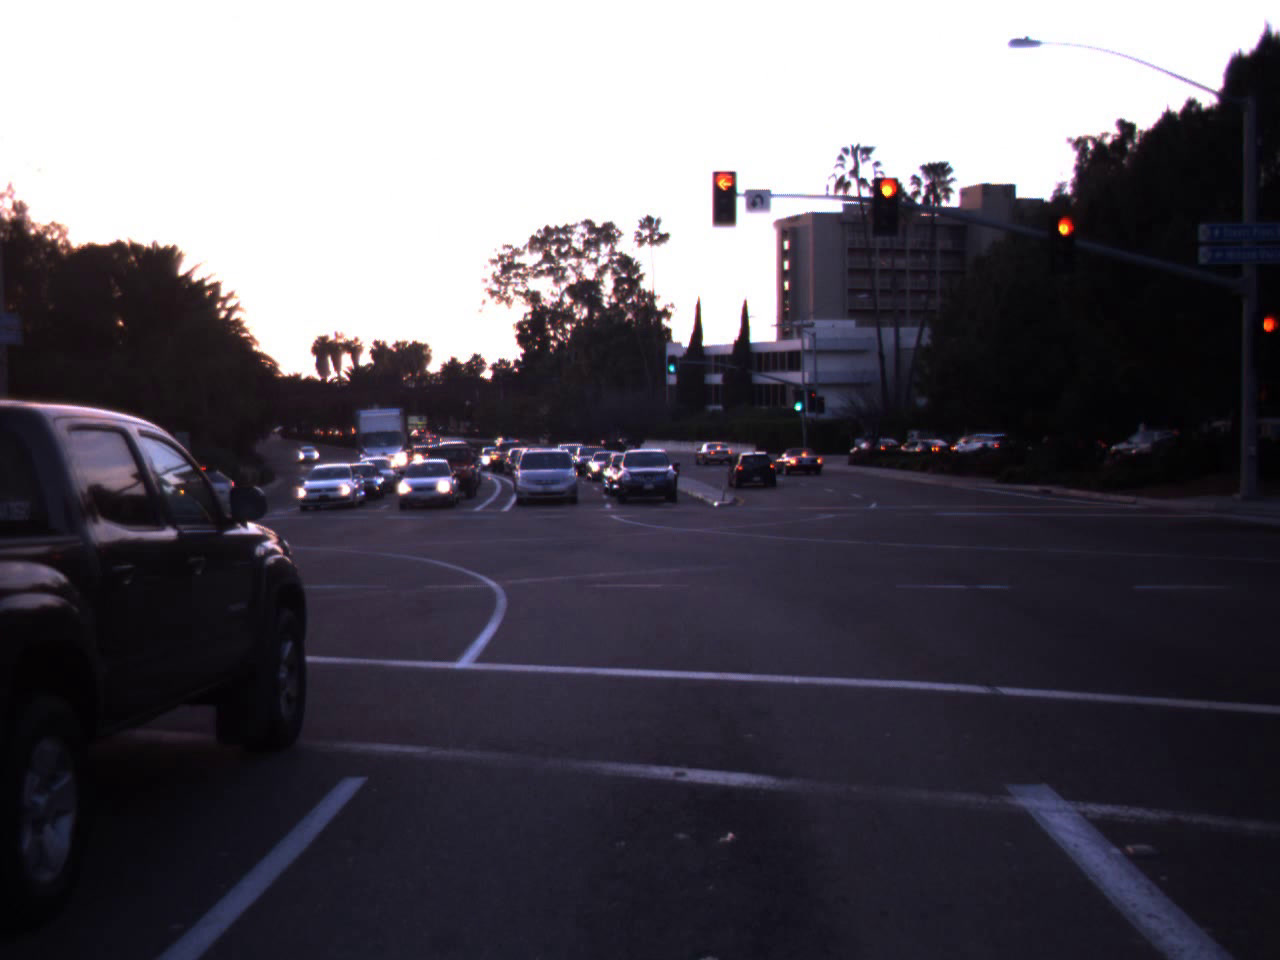go: (791, 382, 806, 412), (666, 352, 678, 372)
stop: (866, 172, 911, 244), (1046, 213, 1085, 276), (700, 169, 748, 214), (1254, 313, 1280, 367)
